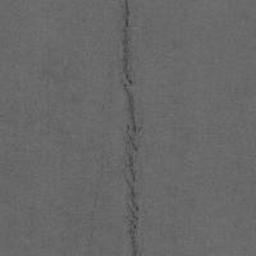Inclusion: (120, 0, 143, 256)
